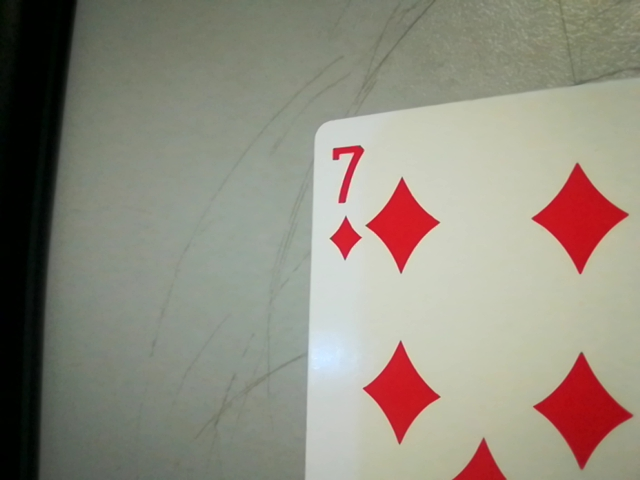fk 7: (313, 131, 368, 264)
